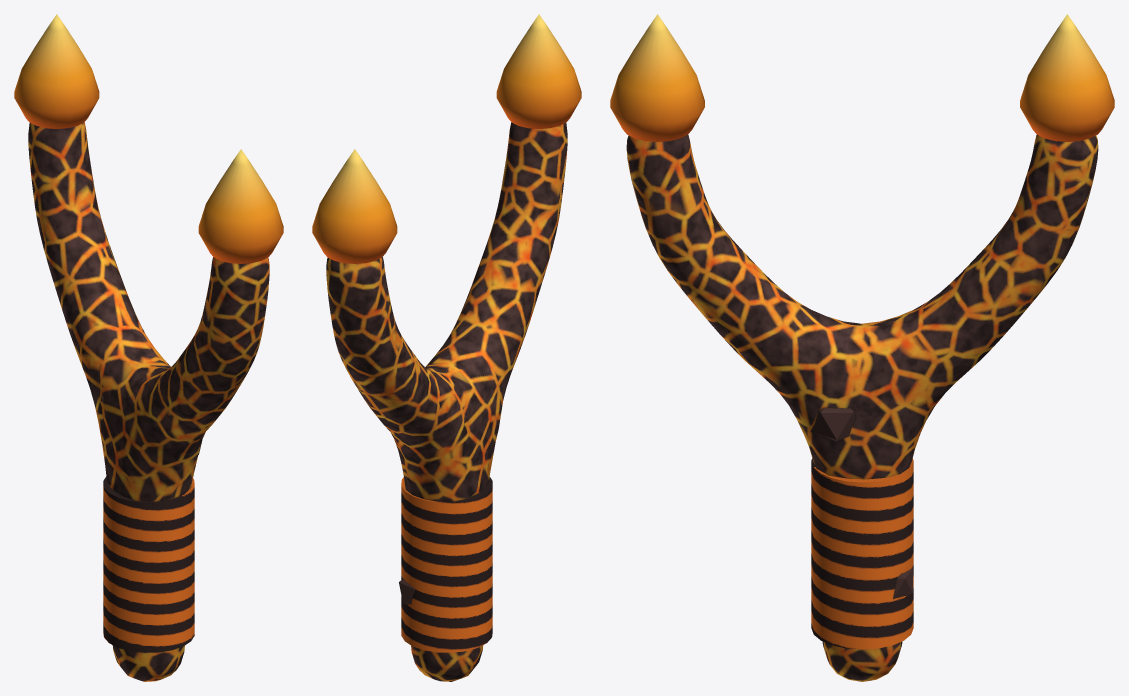
File: Lava Slingshot.fbx
3 renders of one model, left to right at view 1: azimuth 30°, elevation 25°; view 2: azimuth 150°, elevation 25°; view 3: azimuth 270°, elevation 25°, orthographic. The views are drawn at different scales.
Visible parts, largest first — view 1: Lava Slingshot; view 2: Lava Slingshot; view 3: Lava Slingshot.
Part boxes in pixels (<box>): Lava Slingshot: <box>14,14,283,681</box>; Lava Slingshot: <box>312,14,581,681</box>; Lava Slingshot: <box>610,14,1114,681</box>.
Size of the model in its own units: 2.04 by 14.3 by 9.85.
1 material, 1 textured.
